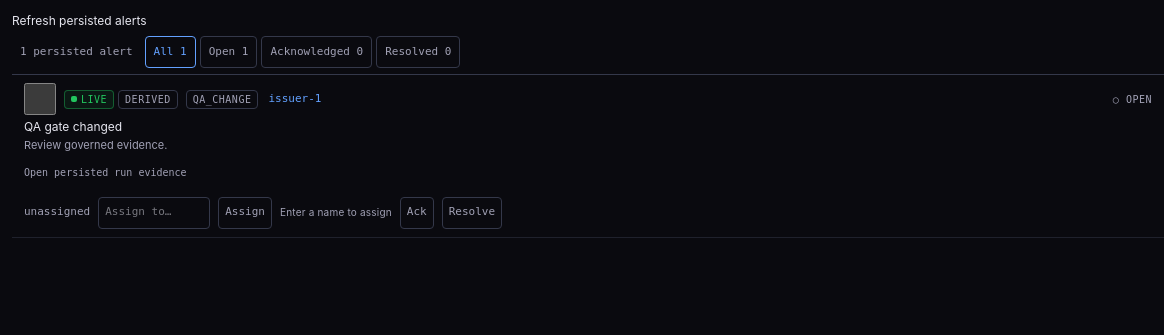
Test: AlertInbox · persisted event presentation › cancels a failed resolution draft together with its retry authority
The width and height of the screenshot is (1164, 335).
Expected: the heading "QA gate changed" is shown, [24,119,122,134]
Click the button "Resolve" at [472, 213], box [442,197,502,229]
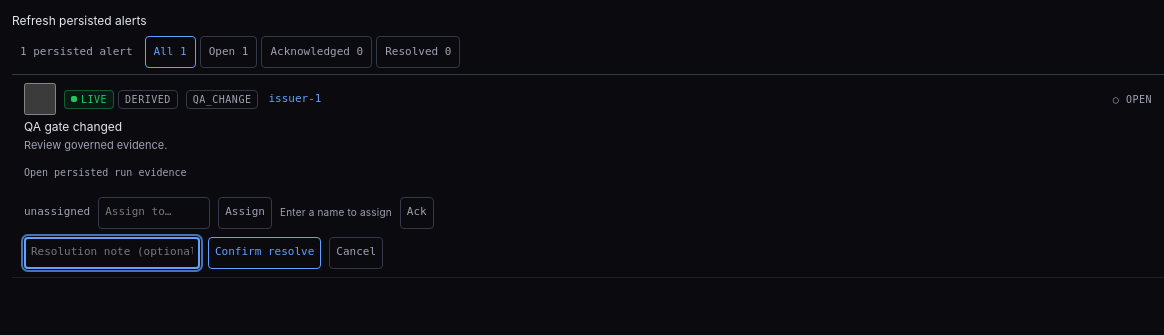
Type "Do not lose this committee note" into the field named "Alert resolution note" at [112, 253], box [24,237,200,269]
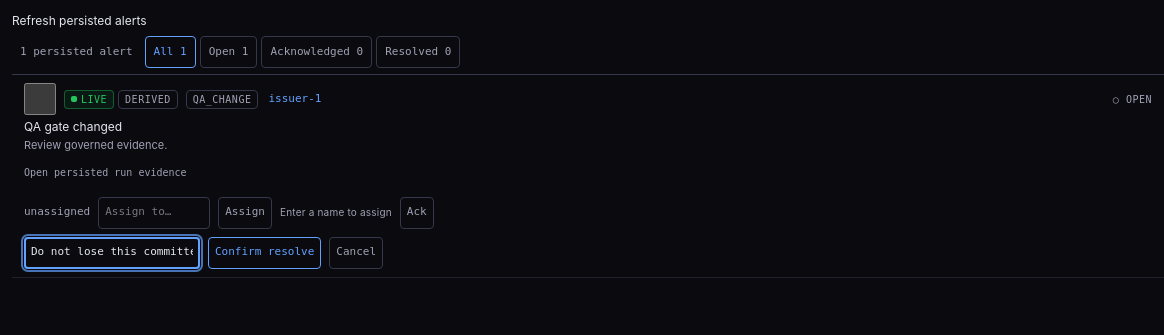
Click the button "Confirm resolve" at [265, 253], box [208,237,321,269]
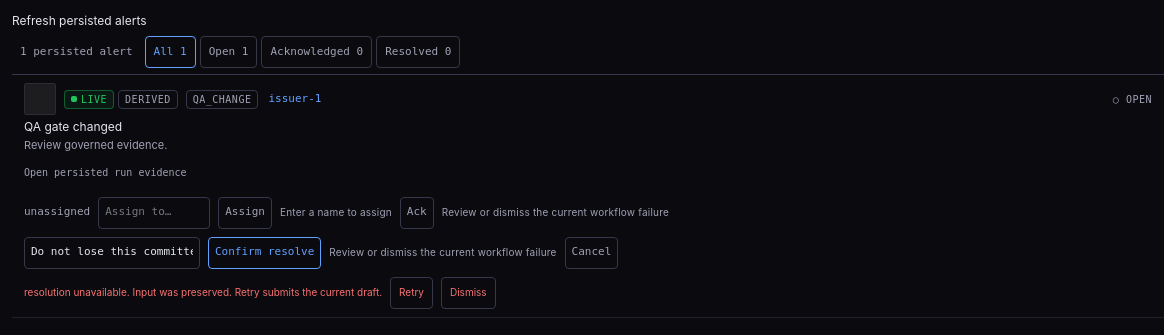
Result: the message shows "resolution unavailable" at [24,286,127,298]
Click the button "Cancel" at [592, 253], box [565,237,618,269]
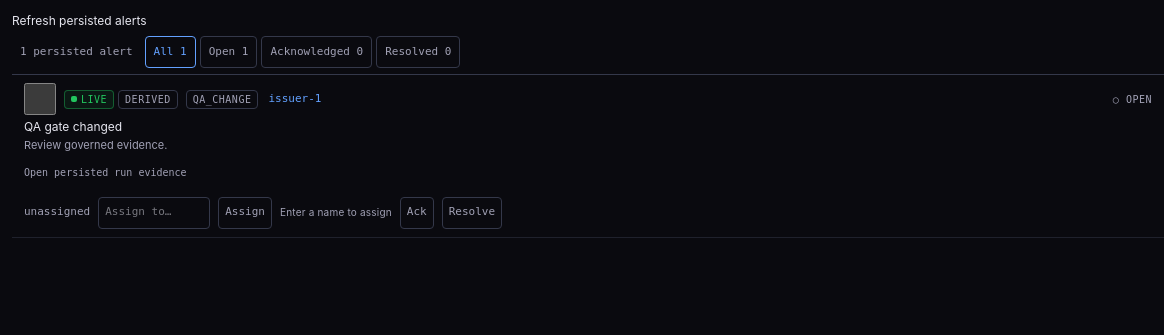
Result: the text "Retry" is gone
Result: the message is gone
